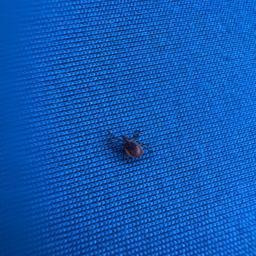Ixodes scapularis: (107, 130, 150, 162)
